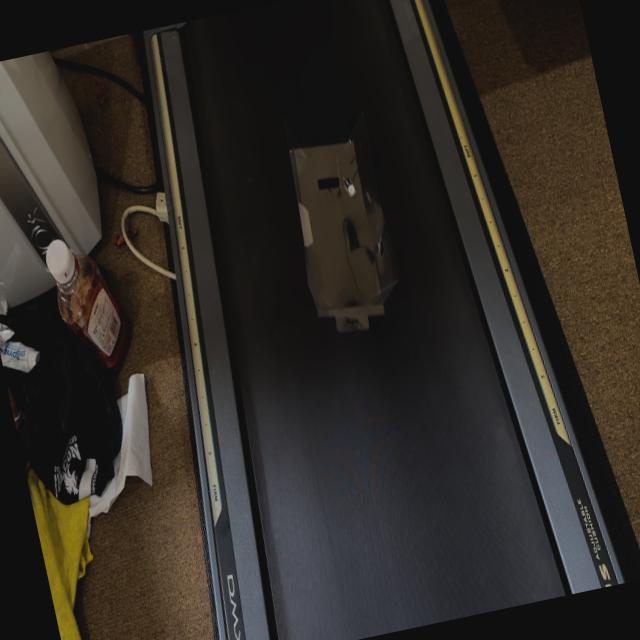Trash: (266, 97, 416, 348)
